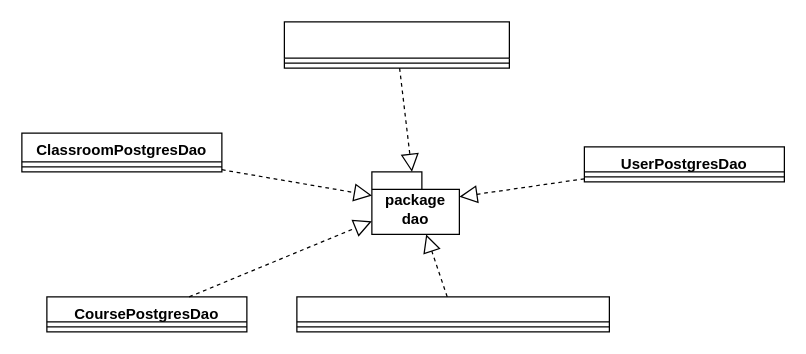
Some shapes in this 806 by 354 pixel diagram are drawn without their labels. The shapes that lost their labels are listed below. From the top down, each one's box as (x1, y1, x2, y2) in pixels, then its label:
(283, 21, 509, 68): LecturePostgresDao
(296, 296, 609, 332): ChangeOfDateReqPostgresDao
